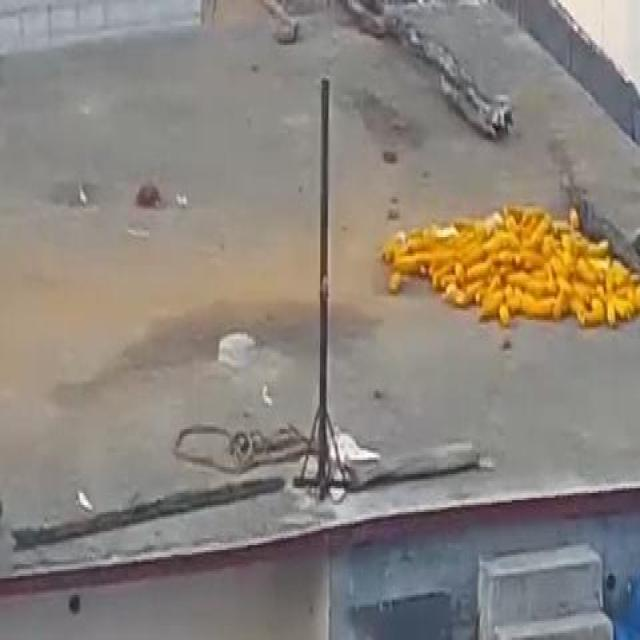other: (379, 168, 632, 336)
